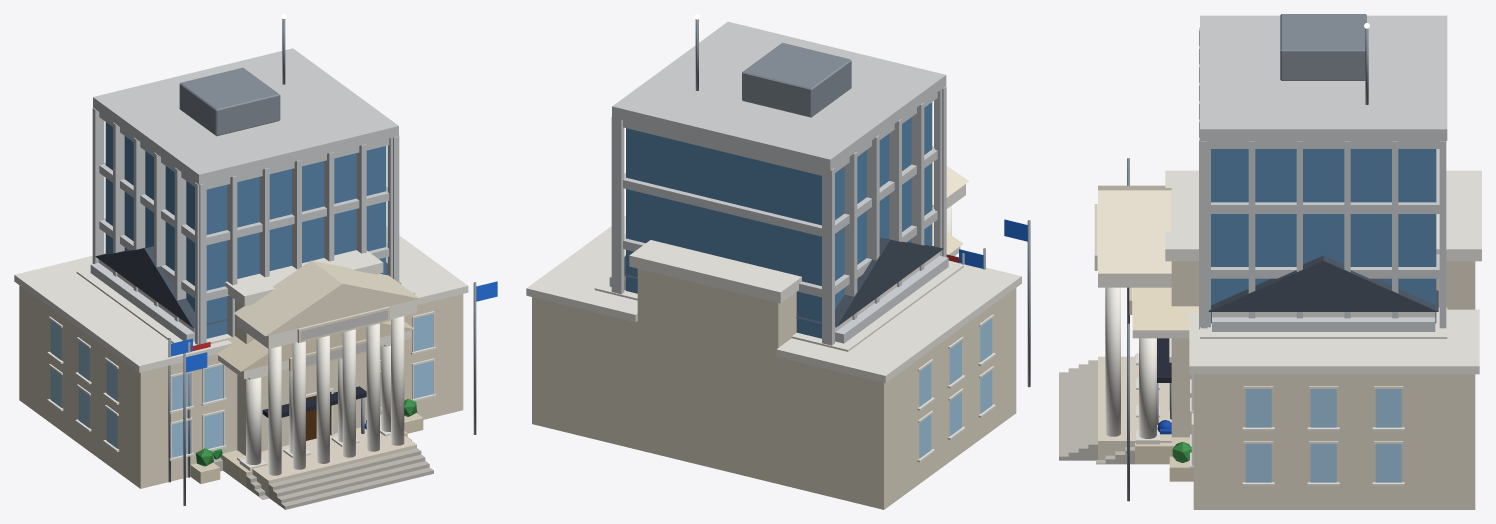
File: town_assets.glb
3 renders of one model, left to right at view 1: azimuth 30°, elevation 25°; view 2: azimuth 150°, elevation 25°; view 3: azimuth 270°, elevation 25°, orthographic. The views are drawn at different scales.
Parts seen in each view (by area): view 1: B_final, B_office, B_web, B_keys, B_security, B_mouse; view 2: B_final, B_office, B_keys, B_web, B_security; view 3: B_final, B_office, B_web, B_keys, B_security.
Boxes of the visible parts, <box> form: B_final: <box>14,226,497,509</box>; B_office: <box>92,14,399,433</box>; B_web: <box>76,268,423,499</box>; B_keys: <box>95,246,387,332</box>; B_security: <box>90,262,401,471</box>; B_mouse: <box>168,338,192,482</box>; B_final: <box>526,162,1030,509</box>; B_office: <box>611,14,946,345</box>; B_keys: <box>624,237,943,331</box>; B_web: <box>594,223,963,351</box>; B_security: <box>609,255,948,343</box>; B_final: <box>1059,158,1481,509</box>; B_office: <box>1157,14,1447,424</box>; B_web: <box>1096,287,1447,481</box>; B_keys: <box>1208,255,1438,317</box>; B_security: <box>1212,317,1435,331</box>.
Bounding box in the file's own units: 20.6 × 23.31 × 19.5.
